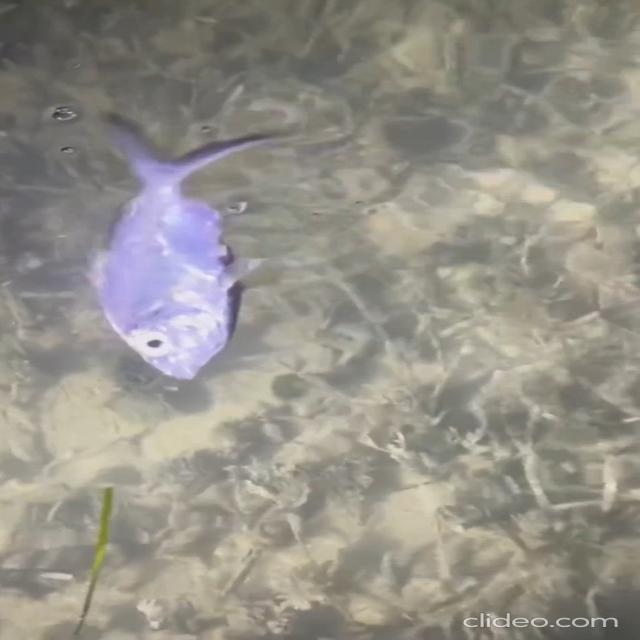fish: (75, 100, 309, 395)
